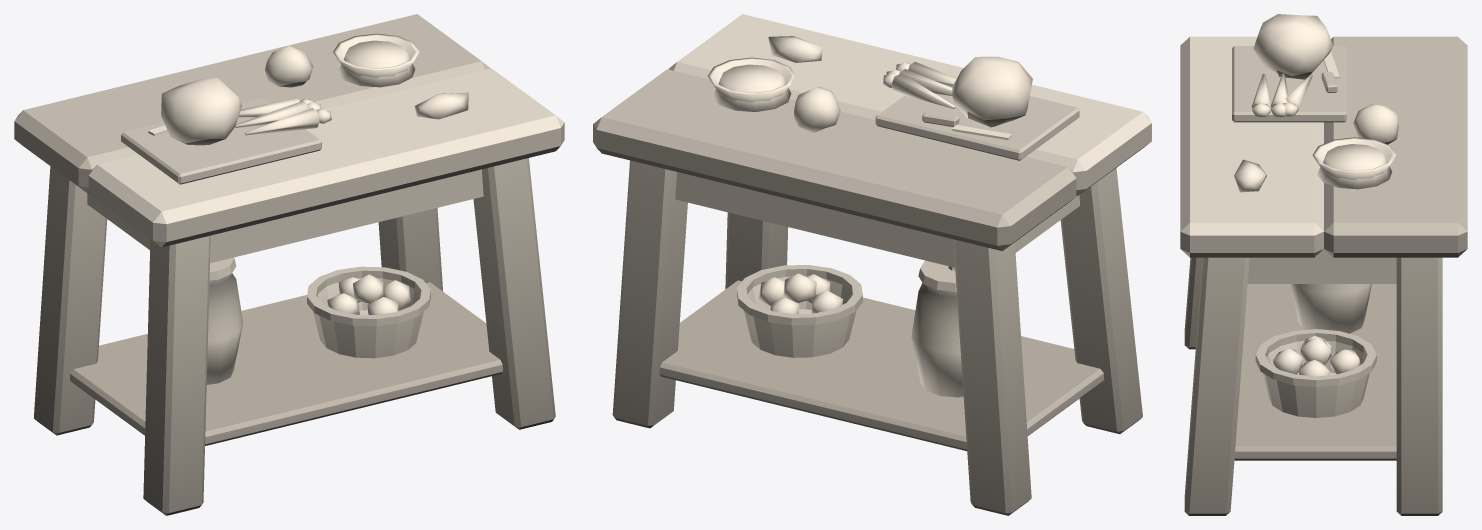
File: SM_VKI_Prop_Worktable_150.fbx
3 views of the same model, side by side, from view 1: azimuth 30°, elevation 25°; view 2: azimuth 150°, elevation 25°; view 3: azimuth 270°, elevation 25° (orthographic). The views are drawn at different scales.
Visible parts, largest first — view 1: SM_VKI_Prop_Worktable_150.001; view 2: SM_VKI_Prop_Worktable_150.001; view 3: SM_VKI_Prop_Worktable_150.001.
Boxes of the visible parts, left/top/right/bottom form: SM_VKI_Prop_Worktable_150.001: left=14, top=14, right=564, bottom=515; SM_VKI_Prop_Worktable_150.001: left=593, top=14, right=1151, bottom=515; SM_VKI_Prop_Worktable_150.001: left=1180, top=14, right=1467, bottom=515.
Size of the model in its own units: 1.2 by 1.04 by 0.75.
